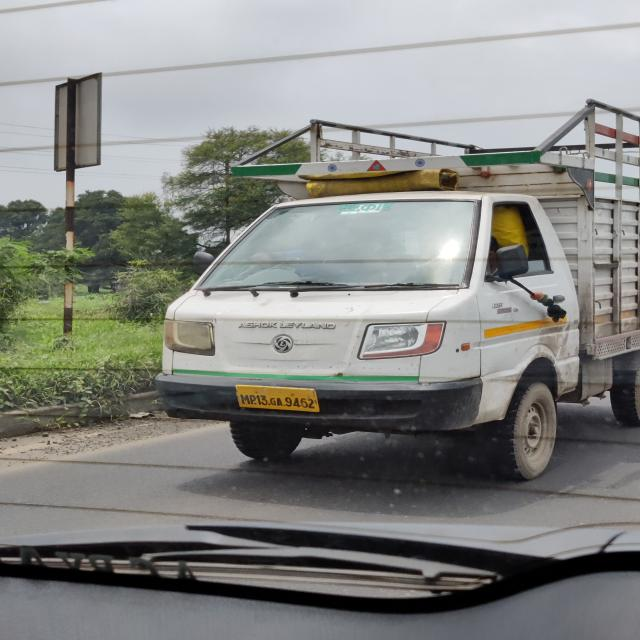Number_Plate_Detected: (235, 383, 329, 416)
